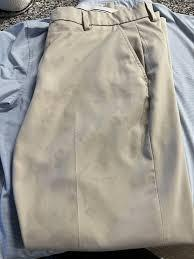mustard: (107, 123, 144, 160)
